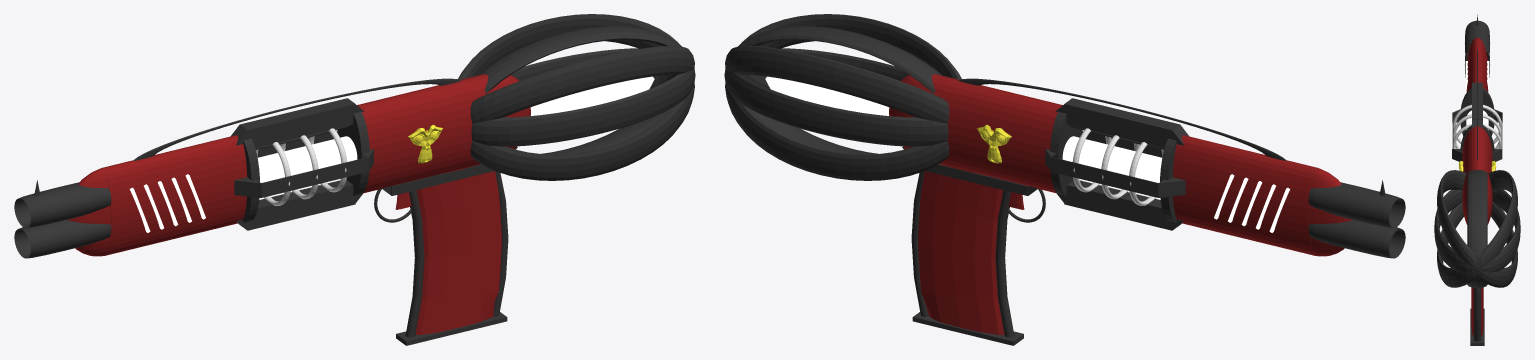
Rendered from gun_red02.glb.
The picture shows the model from 3 angles, left to right: view 1: azimuth 30°, elevation 25°; view 2: azimuth 150°, elevation 25°; view 3: azimuth 270°, elevation 25°; orthographic projection. The views are drawn at different scales.
Parts seen in each view (by area): view 1: Torus.008, Cylinder, Torus.012, Cylinder.004, Torus.013, Torus.011, Torus.014, Cube.004, Torus.001, Torus.006, Cube.005, Cylinder.001 (+11 smaller); view 2: Torus.008, Cylinder, Torus.011, Cylinder.004, Torus.013, Torus.012, Torus.014, Cube.004, Torus.001, Torus.006, Cube.005, Cylinder.001 (+11 smaller); view 3: Torus.011, Torus.012, Torus.013, Torus.014, Cylinder.004, Cylinder, Torus.001, Cylinder.002, Sphere.004, Cube.004, Torus.010, Torus.008 (+11 smaller).
Part boxes in pixels (box(x1,y1,x2,y2)): Torus.008: box(415, 165, 501, 334); Cylinder: box(102, 135, 247, 255); Torus.012: box(458, 14, 694, 180); Cylinder.004: box(357, 74, 495, 192); Torus.013: box(471, 48, 695, 146); Torus.011: box(470, 45, 694, 123); Torus.014: box(478, 26, 682, 154); Cube.004: box(240, 98, 355, 148); Torus.001: box(14, 182, 111, 227); Torus.006: box(14, 220, 111, 258); Cube.005: box(247, 180, 355, 230); Cylinder.001: box(257, 136, 357, 182); Torus.008: box(918, 165, 1004, 334); Cylinder: box(1172, 135, 1317, 255); Torus.011: box(725, 14, 961, 180); Cylinder.004: box(924, 74, 1062, 192); Torus.013: box(724, 48, 948, 146); Torus.012: box(725, 45, 949, 123); Torus.014: box(737, 26, 941, 154); Cube.004: box(1064, 98, 1179, 148); Torus.001: box(1308, 182, 1405, 227); Torus.006: box(1308, 220, 1405, 258); Cube.005: box(1064, 180, 1172, 230); Cylinder.001: box(1062, 136, 1162, 182); Torus.011: box(1437, 170, 1517, 287); Torus.012: box(1437, 170, 1517, 287); Torus.013: box(1434, 189, 1520, 272); Torus.014: box(1467, 169, 1487, 287); Cylinder.004: box(1462, 126, 1492, 197); Cylinder: box(1466, 40, 1488, 92); Torus.001: box(1464, 20, 1490, 60); Cylinder.002: box(1460, 88, 1494, 135); Sphere.004: box(1462, 179, 1492, 224); Cube.004: box(1472, 82, 1482, 119); Torus.010: box(1474, 288, 1480, 341); Torus.008: box(1471, 287, 1483, 336).
Size of the model in its own units: 0.2404 by 0.0911 by 0.0388.
